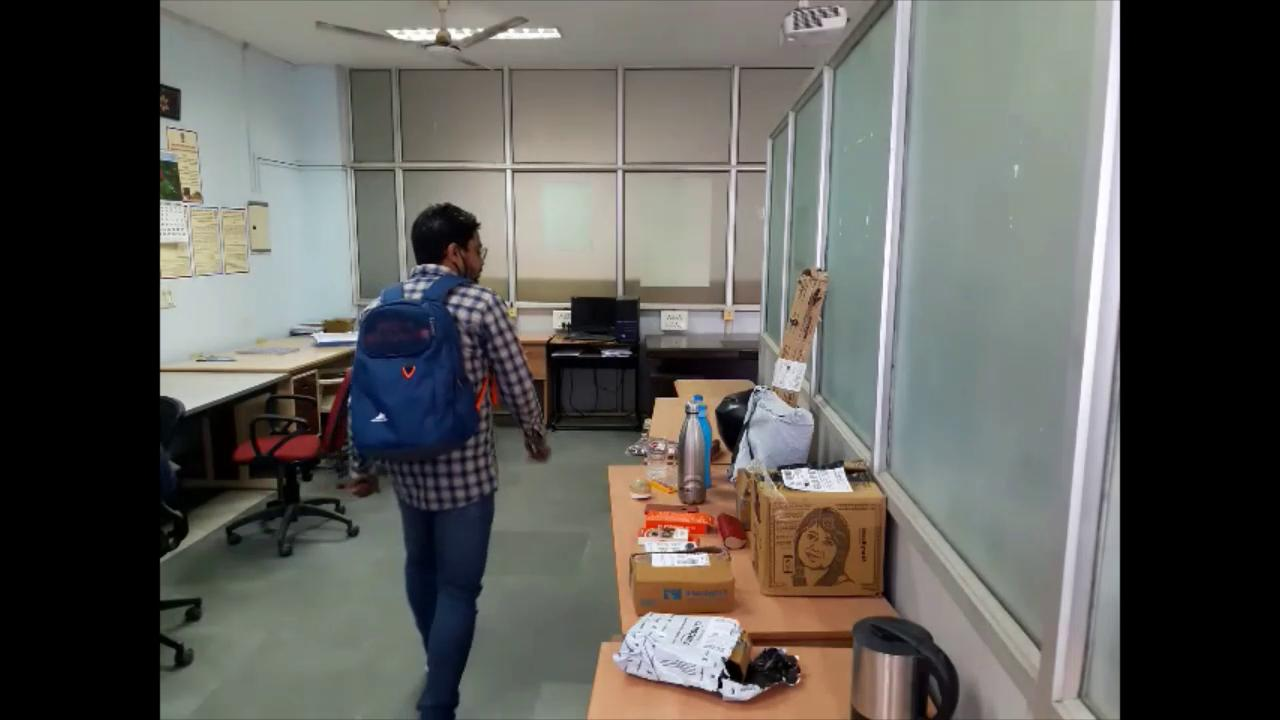Normal: (338, 197, 556, 720)
